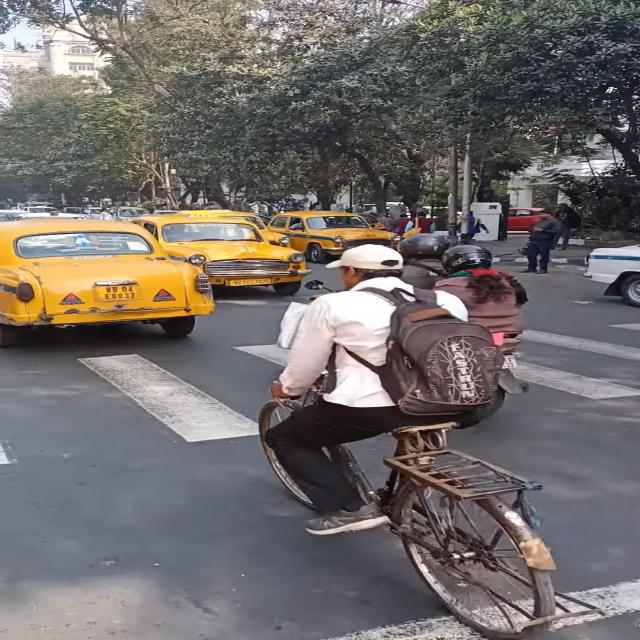Taxi: (0, 222, 212, 338), (155, 208, 314, 292), (279, 202, 402, 259)
